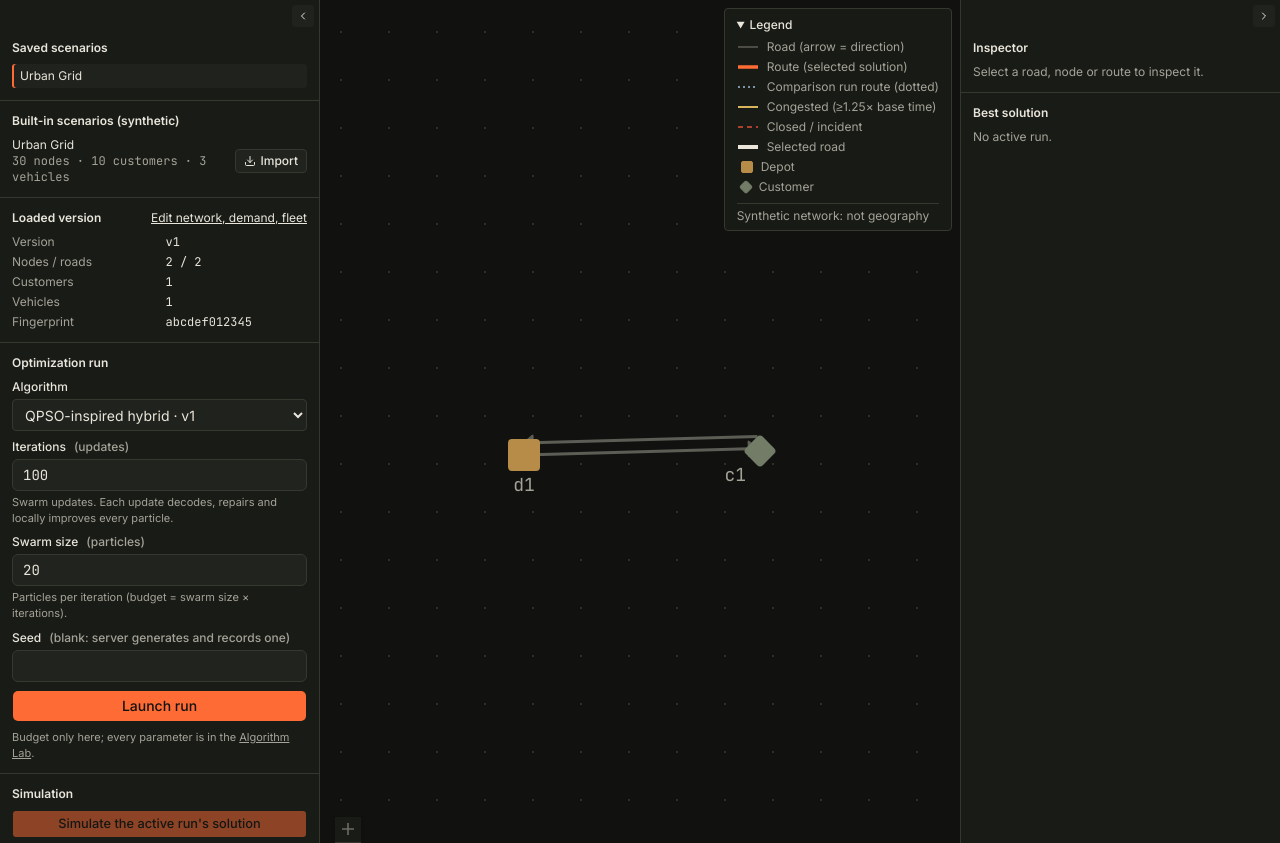
Test: Command Center › shows API validation errors from a rejected submission
What coordinates should you click on to do the following:
click the button "Launch run"
I would click on:
 (160, 706)
Its box is [12,690,307,722].
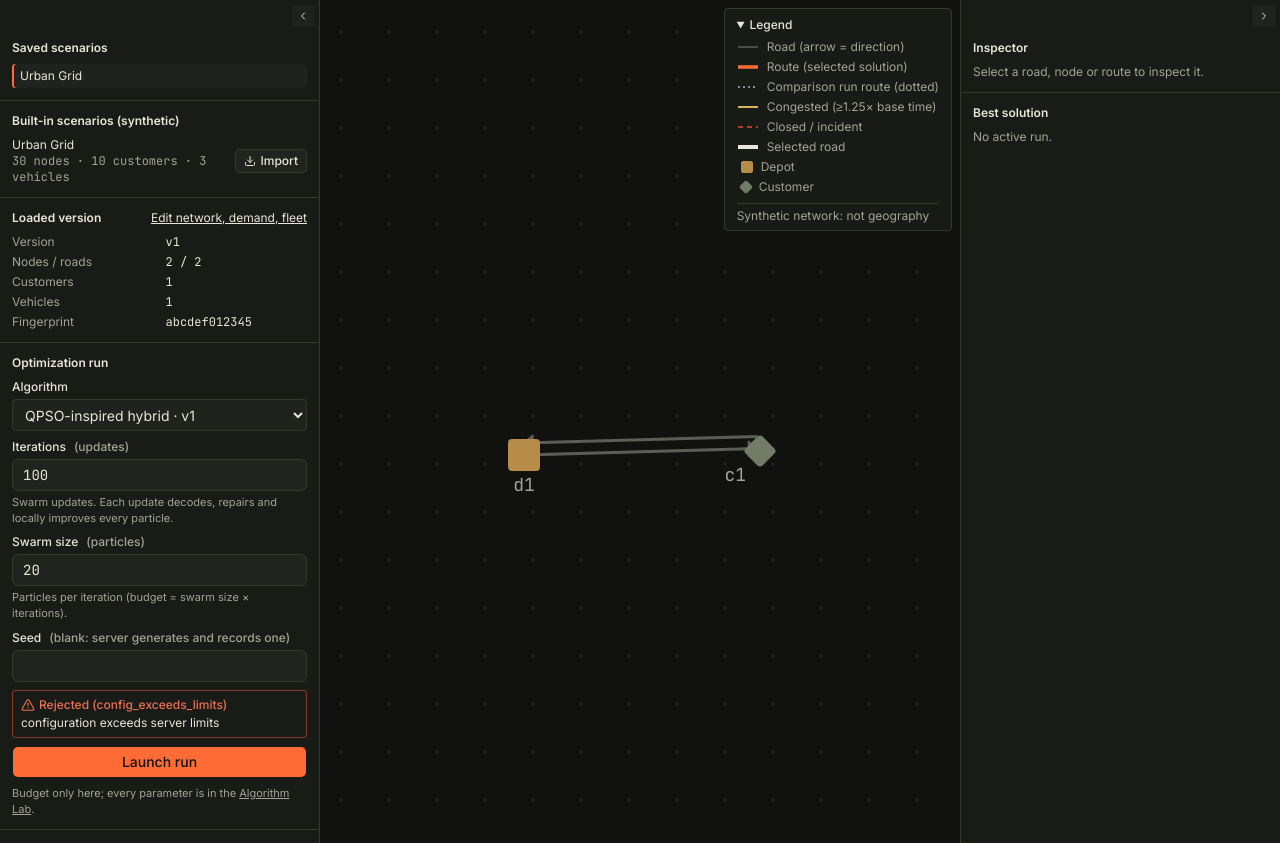
Result: the message shows "config_exceeds_limits" at [39,697,227,712]
